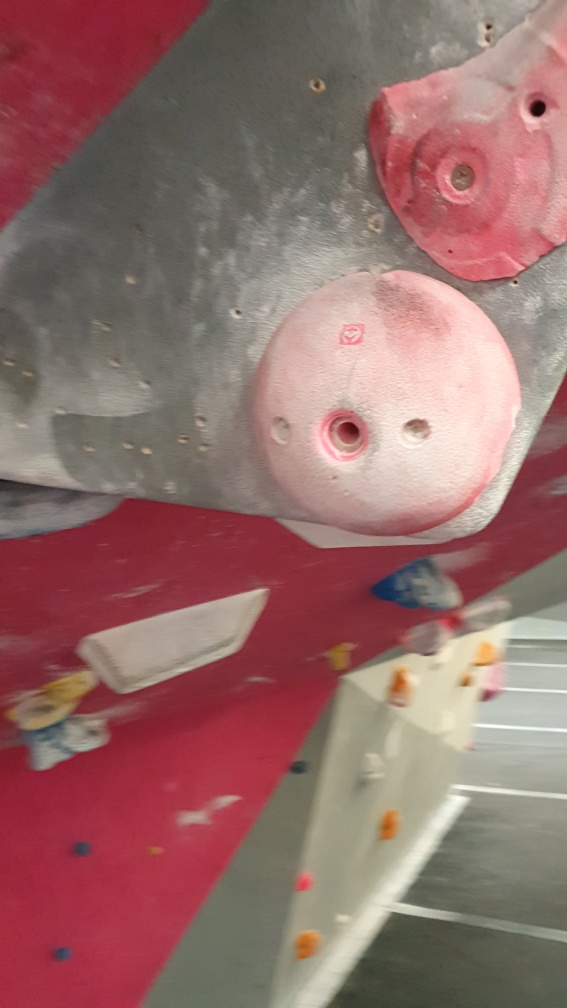Jug: (367, 554, 471, 615)
Pinch: (70, 580, 279, 698)
Sloper: (242, 267, 525, 541)
